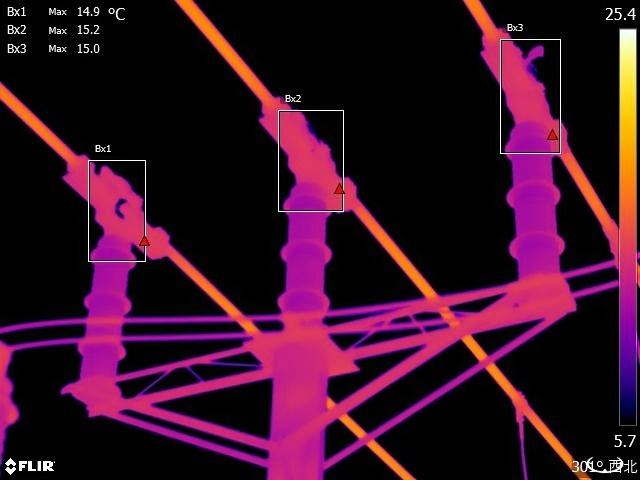clamp: (497, 384, 541, 425)
post insulator: (70, 220, 138, 385), (496, 123, 567, 278), (273, 184, 331, 333)
